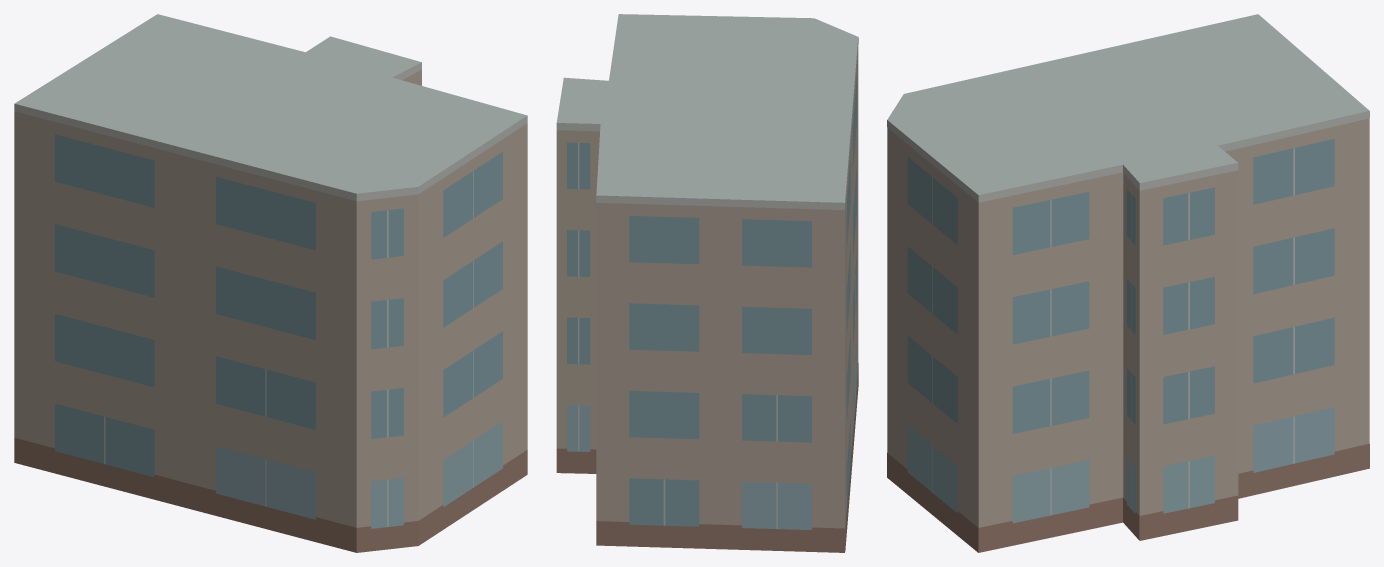
Rendered from survey-upis-32822730.glb.
3 views of the same model, side by side, from view 1: azimuth 30°, elevation 25°; view 2: azimuth 150°, elevation 25°; view 3: azimuth 270°, elevation 25° (orthographic). The views are drawn at different scales.
Visible parts, largest first — view 1: survey-upis-32822730.tmp; view 2: survey-upis-32822730.tmp; view 3: survey-upis-32822730.tmp.
Boxes of the visible parts, bbox=[...] form: survey-upis-32822730.tmp: bbox=[14, 14, 527, 552]; survey-upis-32822730.tmp: bbox=[556, 14, 858, 552]; survey-upis-32822730.tmp: bbox=[887, 14, 1369, 552].
Bounding box in the file's own units: 12.66 × 11.64 × 14.25.
